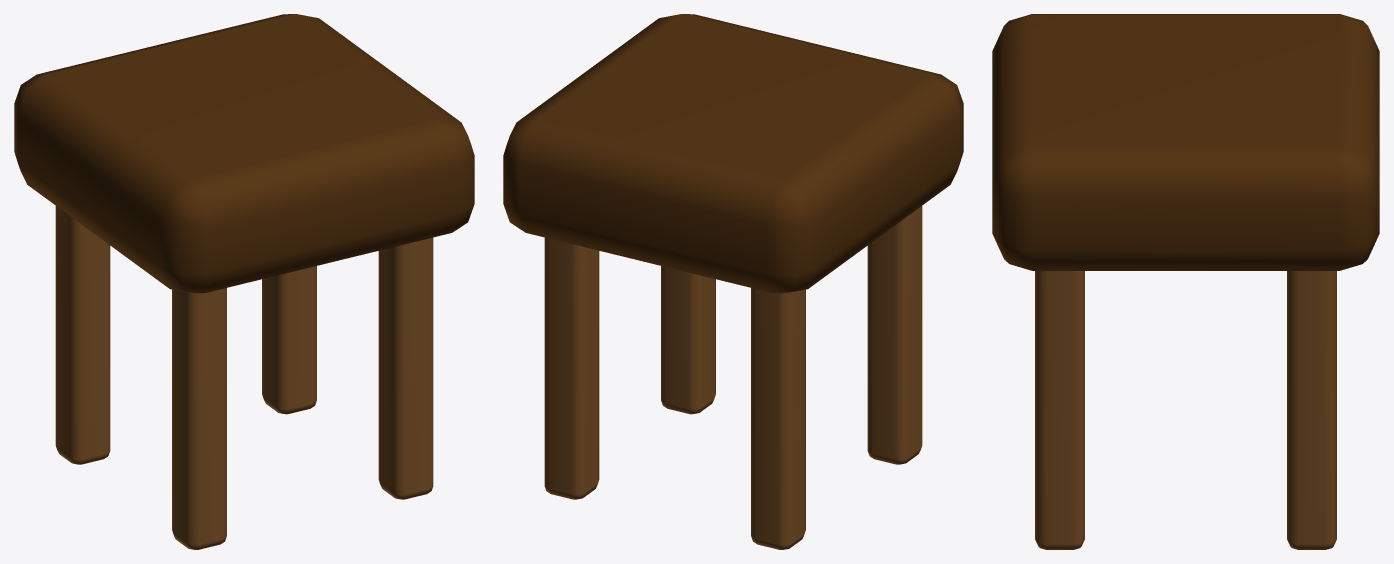
The model's file is stool_06_brown.fbx.
3 renders of one model, left to right at view 1: azimuth 30°, elevation 25°; view 2: azimuth 150°, elevation 25°; view 3: azimuth 270°, elevation 25°, orthographic. The views are drawn at different scales.
Visible parts, largest first — view 1: stool_06_brown; view 2: stool_06_brown; view 3: stool_06_brown.
Part boxes in pixels (bbox=[...]): stool_06_brown: bbox=[14, 14, 474, 549]; stool_06_brown: bbox=[503, 14, 963, 549]; stool_06_brown: bbox=[992, 14, 1379, 549].
Bounding box in the file's own units: 41.07 × 47.84 × 41.07.
1 material, 1 textured.
